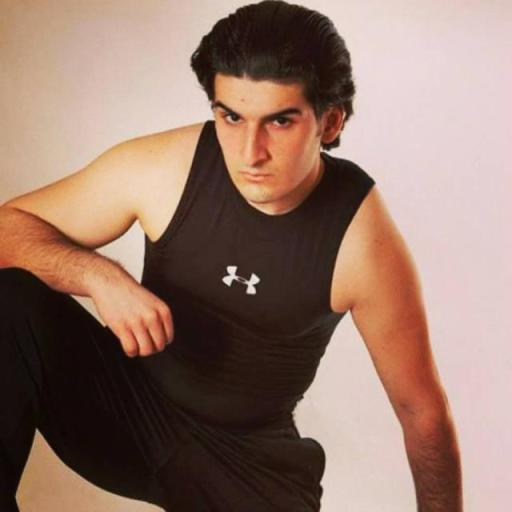Under Armour: (218, 262, 262, 296)
